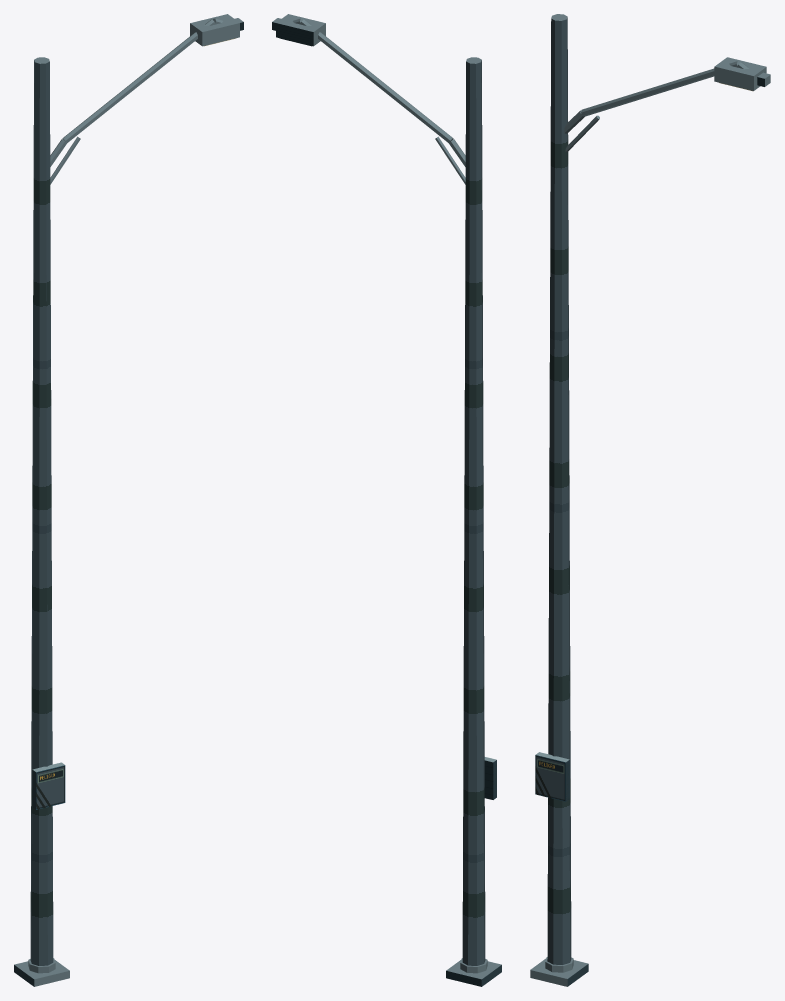
The model's file is poste_luz_con_brazo.glb.
3 views of the same model, side by side, from view 1: azimuth 30°, elevation 25°; view 2: azimuth 150°, elevation 25°; view 3: azimuth 330°, elevation 25° (orthographic). The views are drawn at different scales.
Visible parts, largest first — view 1: FH_PROP; view 2: FH_PROP; view 3: FH_PROP.
Boxes of the visible parts, x1,y1,x2,y2 form: FH_PROP: (14, 14, 243, 986); FH_PROP: (272, 14, 501, 986); FH_PROP: (530, 14, 770, 986).
Size of the model in its own units: 1.74 by 7.01 by 0.2804.
1 material, 1 textured.
